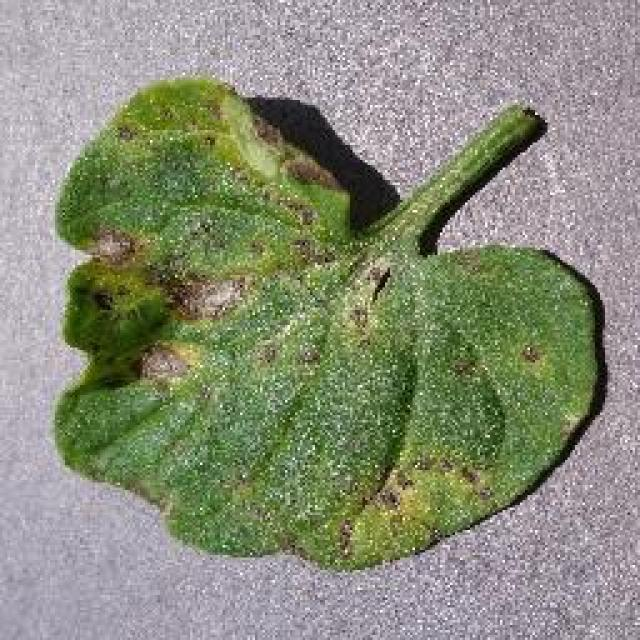Tomato___Septoria_leaf_spot: (55, 78, 598, 568)
